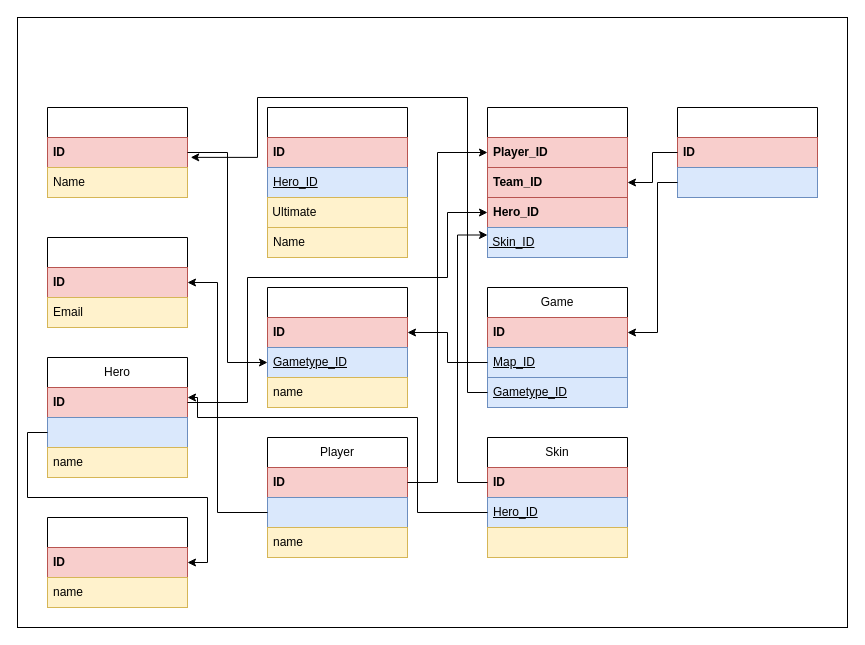
Image size: 865x645. Some labels were removed from this diagram. Each missing label, with the box of its shape:
Account: (46, 236, 188, 328)
Account_ID: (266, 496, 408, 528)
filename: (486, 526, 628, 558)
Game_ID: (676, 166, 818, 198)
Gametype: (46, 106, 188, 198)
Hero_Ability: (266, 106, 408, 258)
Herotype: (46, 516, 188, 608)
Herotype_ID: (46, 416, 188, 448)
Map: (266, 286, 408, 408)
Selectedhero: (486, 106, 628, 258)
Team: (676, 106, 818, 198)
